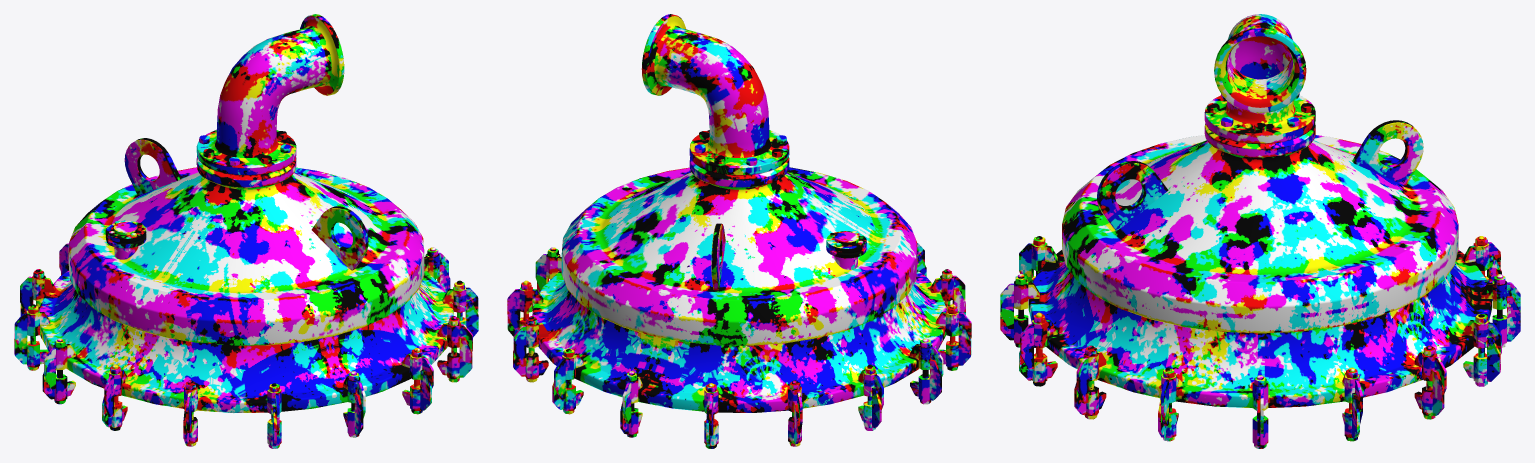
The model's file is sm_Container_Top_01_03.fbx.
3 renders of one model, left to right at view 1: azimuth 30°, elevation 25°; view 2: azimuth 150°, elevation 25°; view 3: azimuth 270°, elevation 25°, orthographic. The views are drawn at different scales.
Parts seen in each view (by area): view 1: sm_Container_Top_01_03_LOD0; view 2: sm_Container_Top_01_03_LOD0; view 3: sm_Container_Top_01_03_LOD0.
Part boxes in pixels (x1,y1,x2,y2): sm_Container_Top_01_03_LOD0: (14,14,478,448); sm_Container_Top_01_03_LOD0: (507,14,971,448); sm_Container_Top_01_03_LOD0: (1000,14,1520,448).
Bounding box in the file's own units: 168 × 168 × 128.
